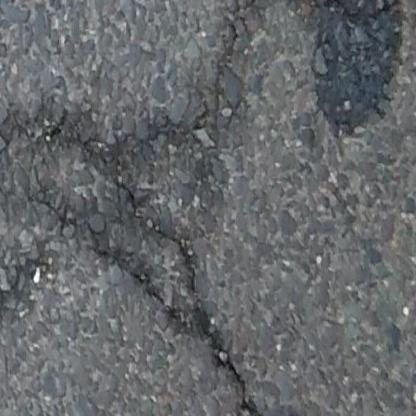Cracks: (11, 181, 332, 416), (59, 66, 280, 244), (215, 0, 268, 181)
